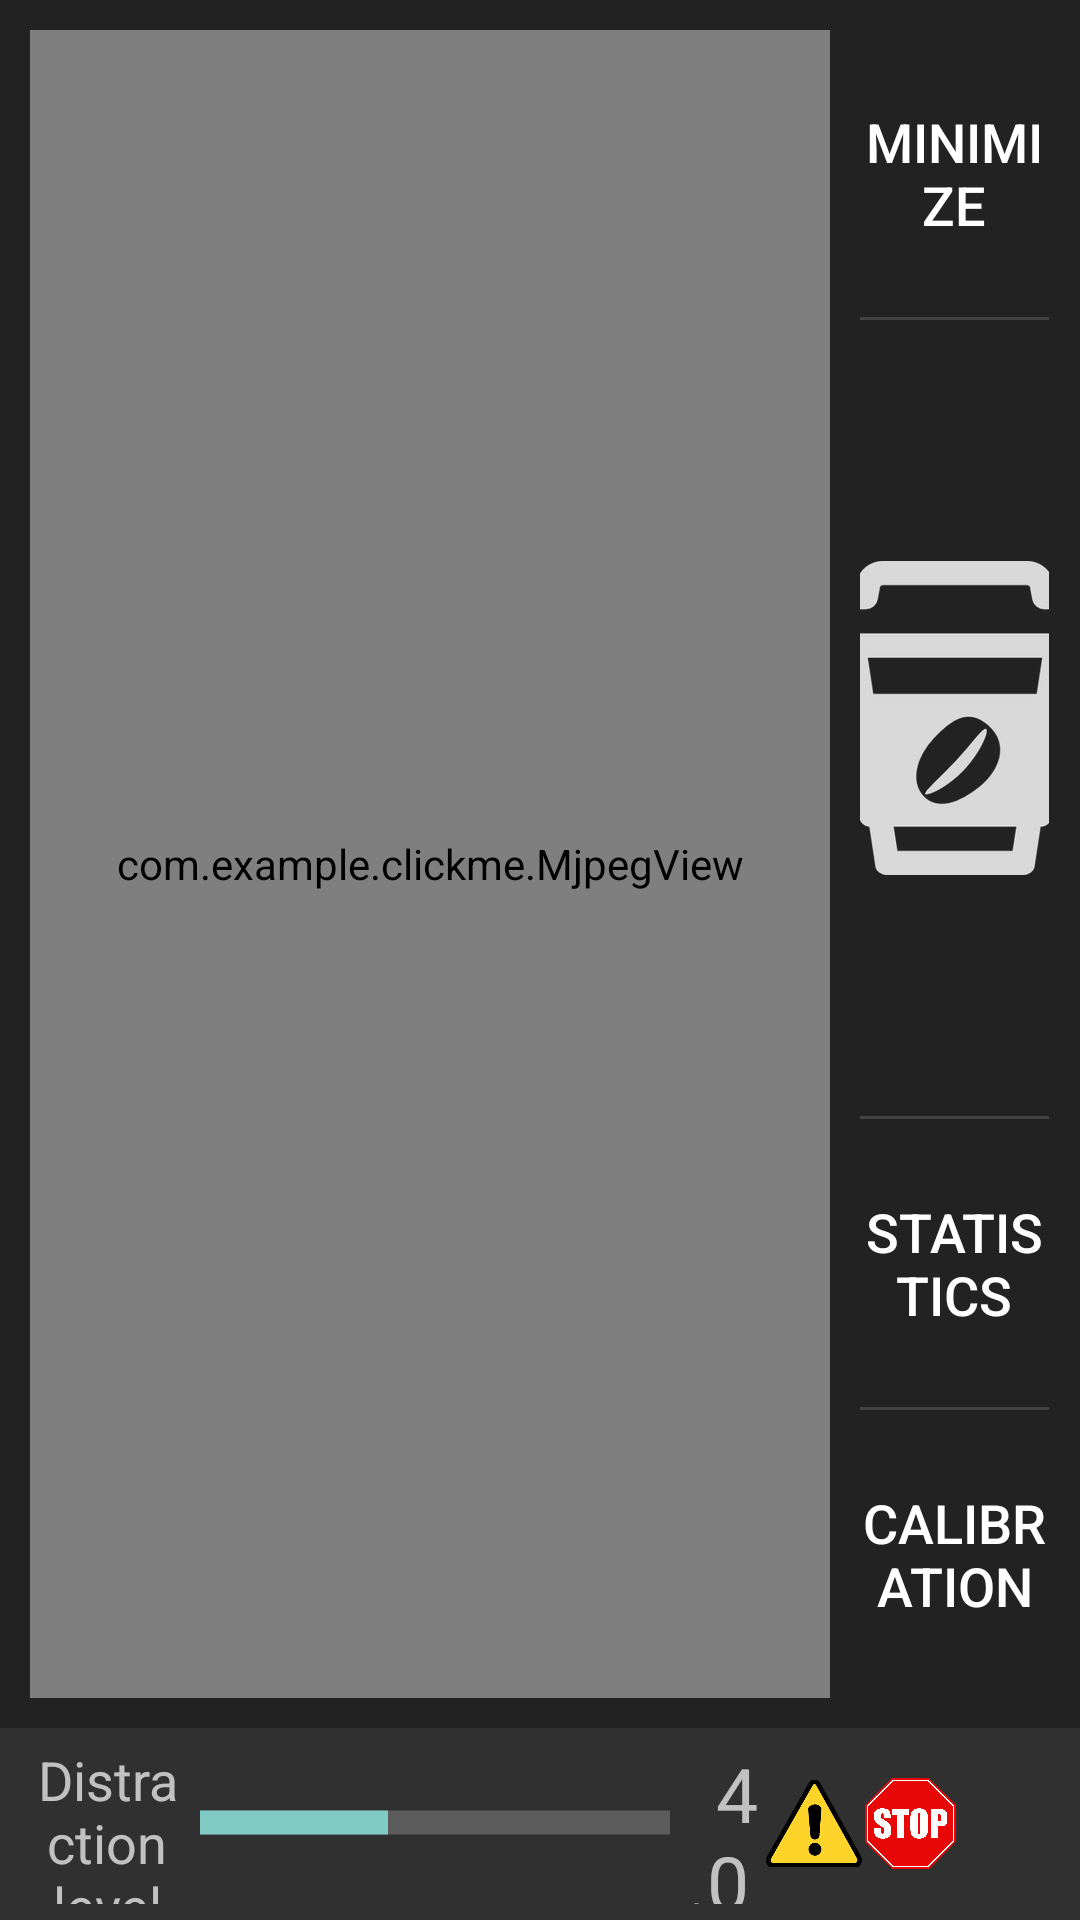

Screen size 1080×1920. Icon name, then its box in pixels as (x1, y1, x2, y2):
coffee: (860, 561, 1049, 875)
warning: (766, 1780, 862, 1867)
